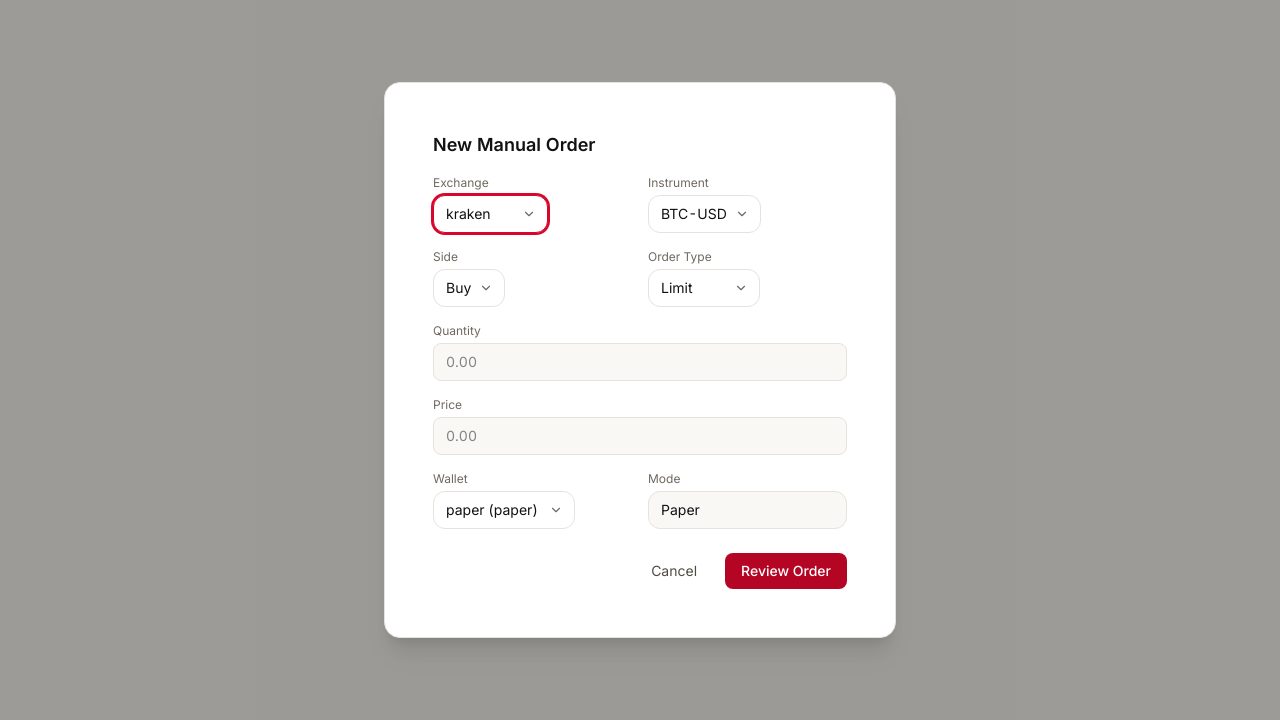
NewOrderModal › shows error on submit failure
In the number field with placeholder "0.00": x=640, y=362 top-left (433, 343), bottom-right (847, 381), type "0.5"
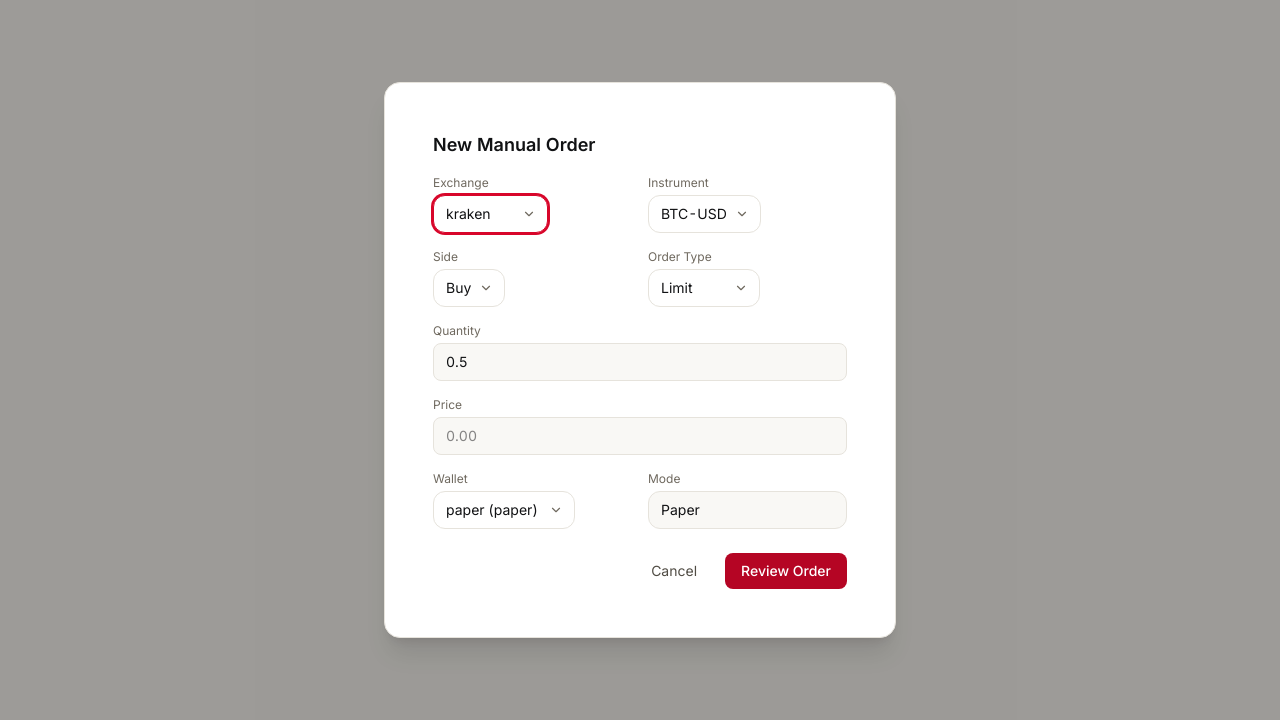
In the number field with placeholder "0.00": x=640, y=436 top-left (433, 417), bottom-right (847, 455), type "50000"
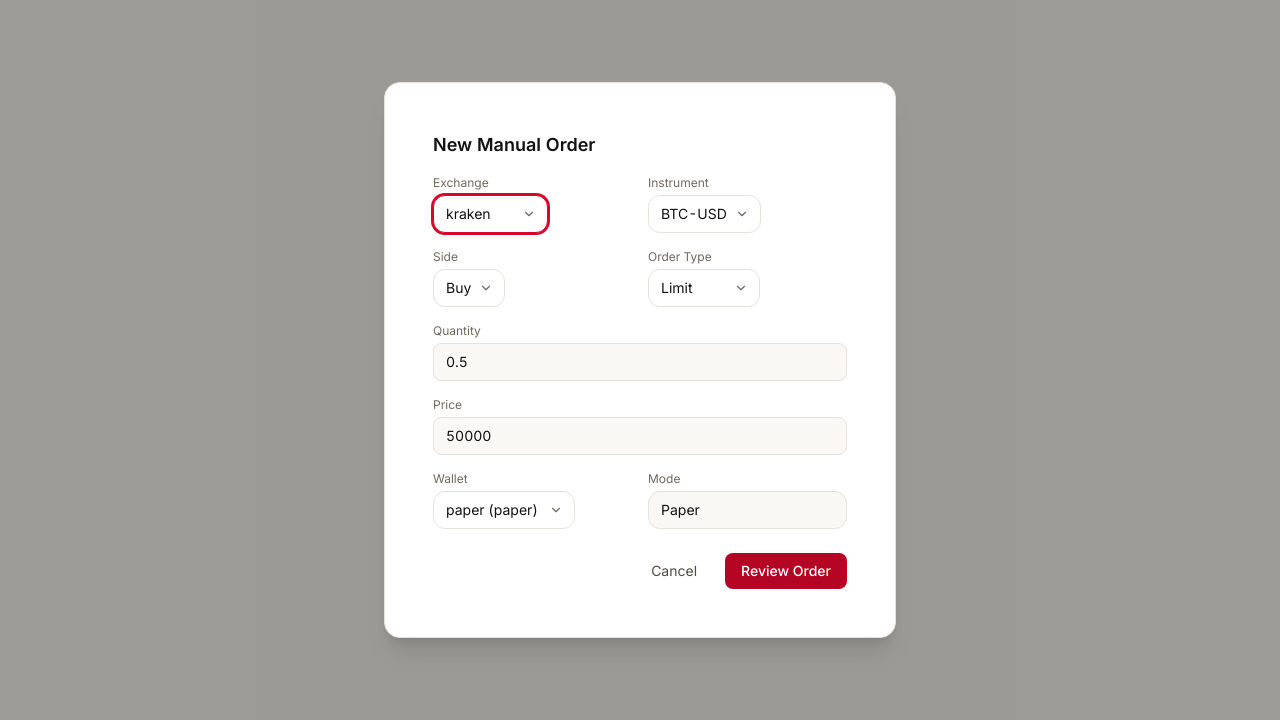
Click the button "Review Order": x=786, y=571 top-left (725, 553), bottom-right (847, 589)
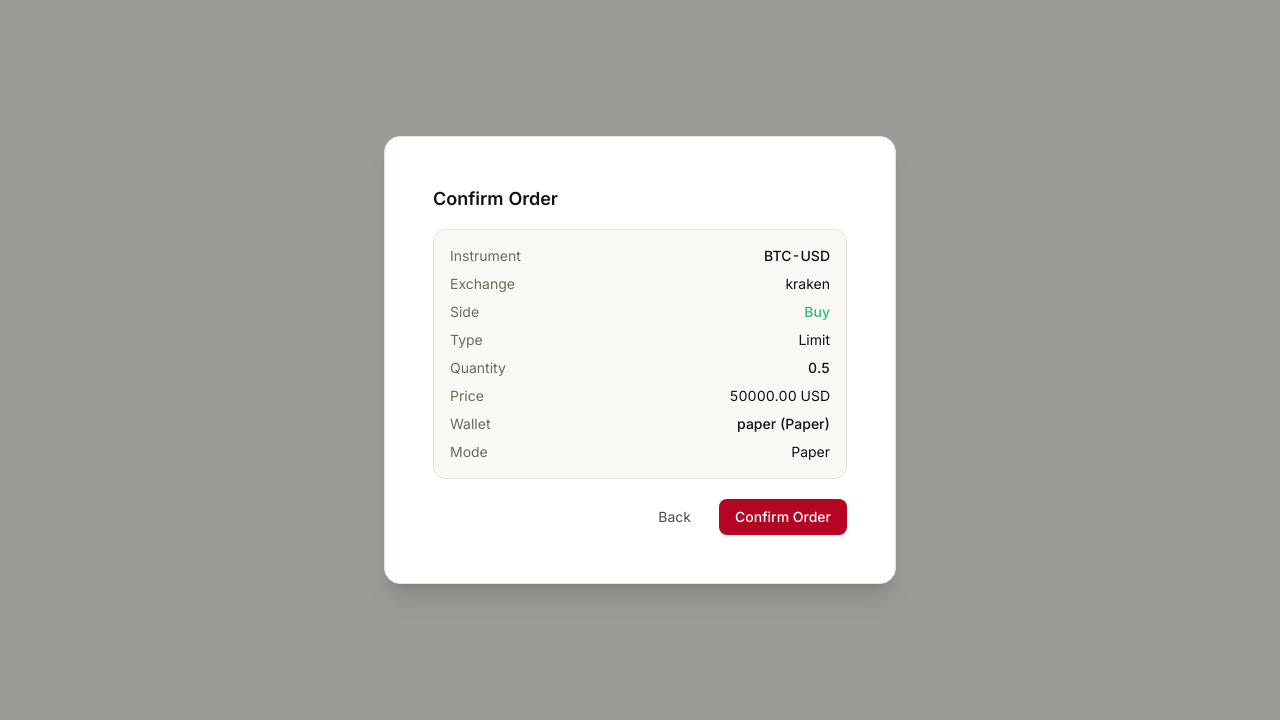
Result: the heading "Confirm Order" is shown at top-left (433, 188), bottom-right (558, 209)
Click the button "Confirm Order": x=783, y=517 top-left (719, 499), bottom-right (847, 535)
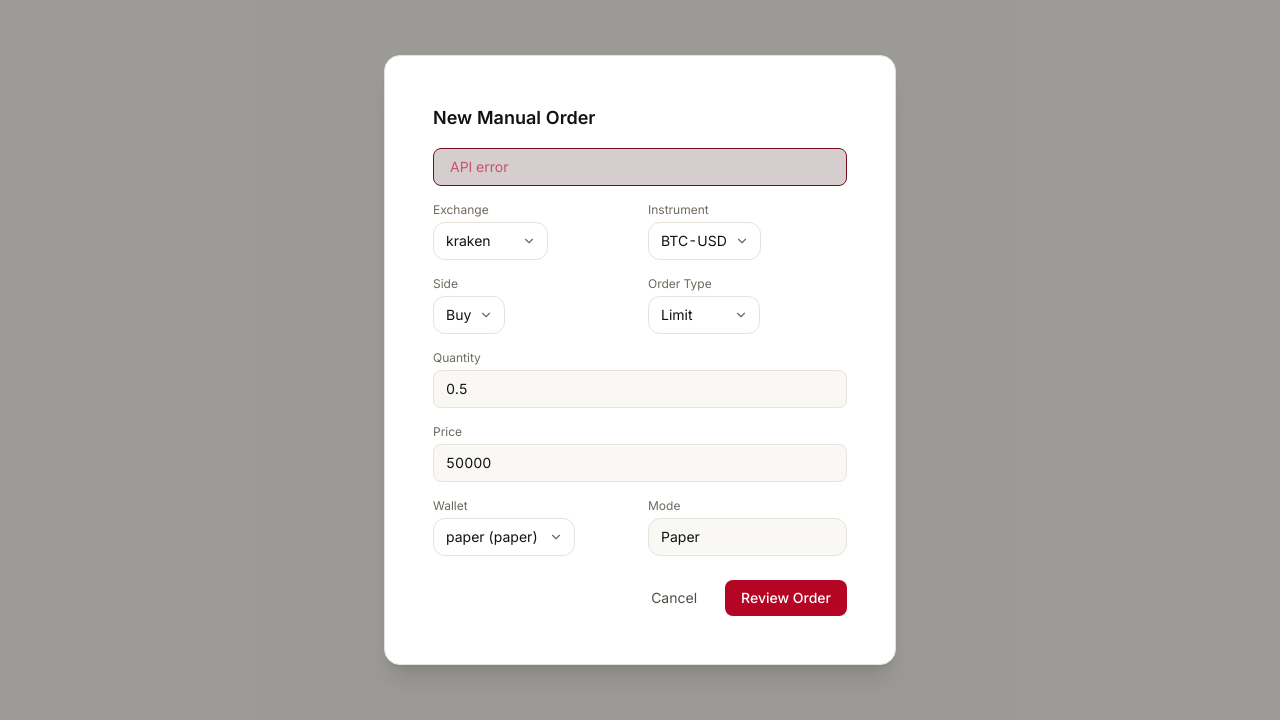
Result: the text "API error" is shown at top-left (433, 148), bottom-right (847, 186)
